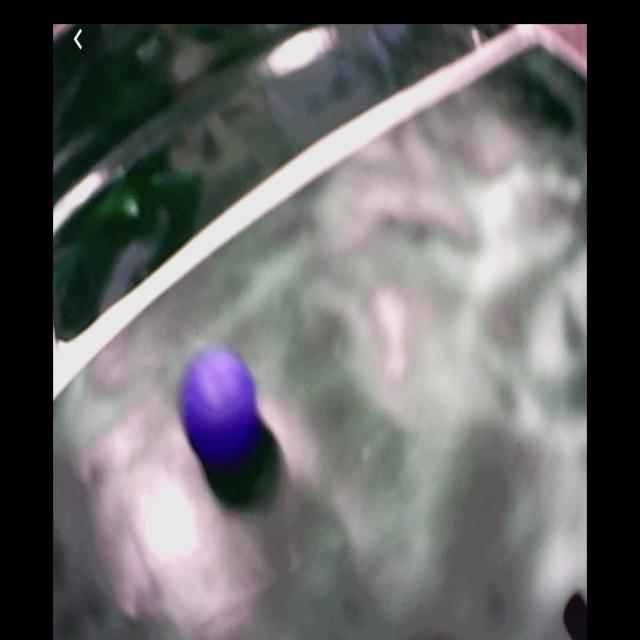ball: (180, 349, 259, 467)
